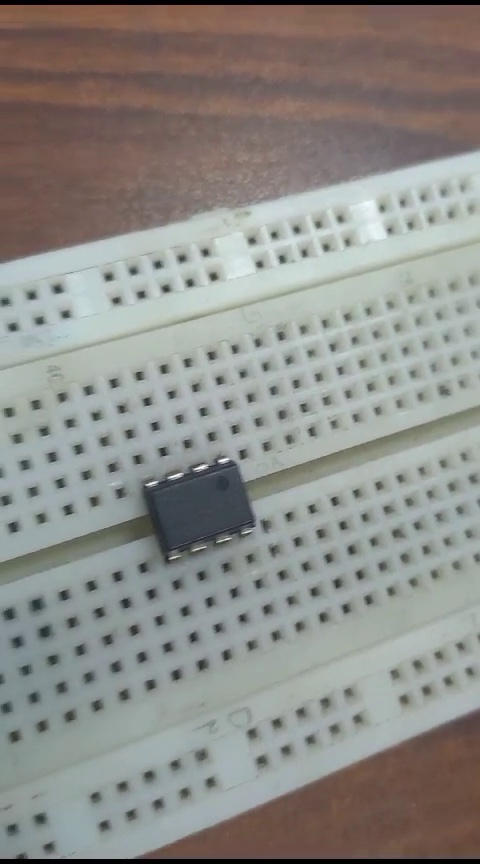IC: (127, 447, 263, 563)
